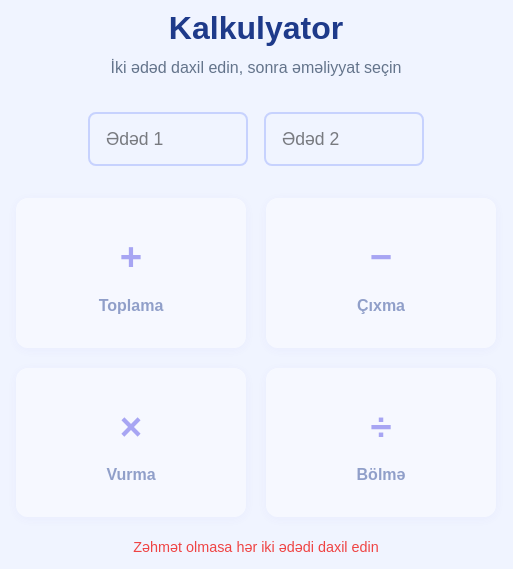
Test: Calculator Home komponenti › hər iki input doldurulduqda xəbərdarlıq yox olur
Step 1. Type "5" into the number field with placeholder "Ədəd 1" → {"x": 168, "y": 139}, box top-left (88, 112), bottom-right (248, 166)
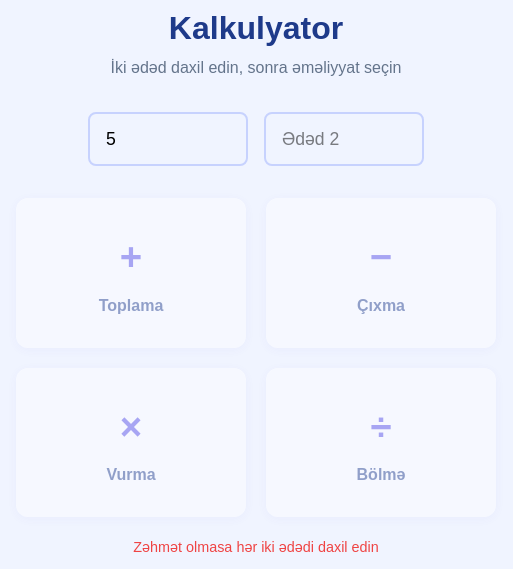
Step 2. Type "3" into the number field with placeholder "Ədəd 2" → {"x": 344, "y": 139}, box top-left (264, 112), bottom-right (424, 166)
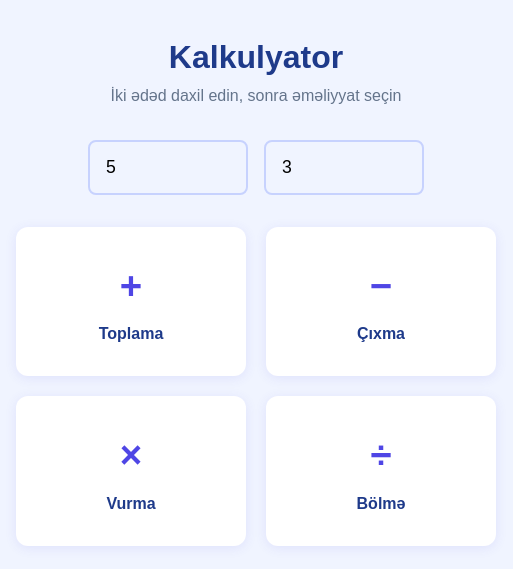
Check: the text "hər iki ədədi daxil edin" is gone
